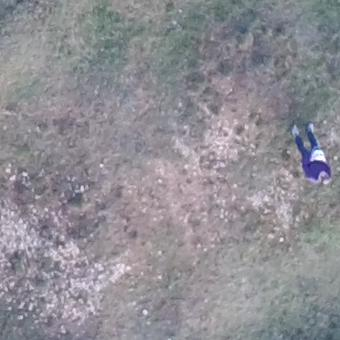human: (288, 122, 334, 186)
